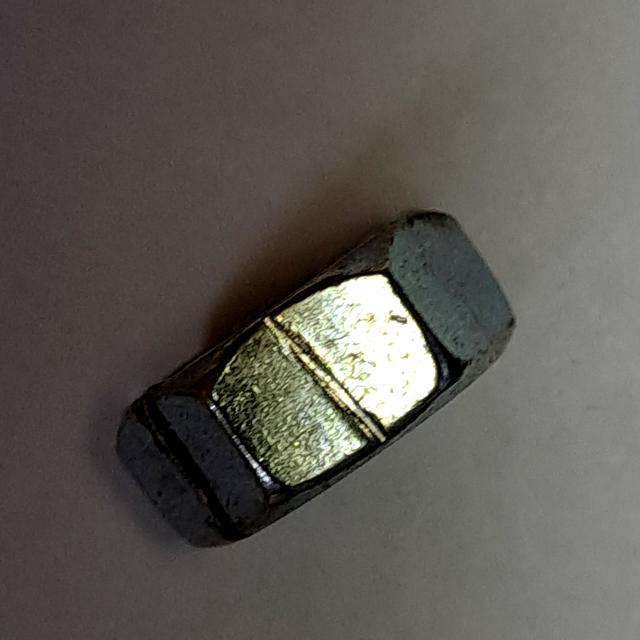Side_Scratches: (105, 198, 532, 561)
